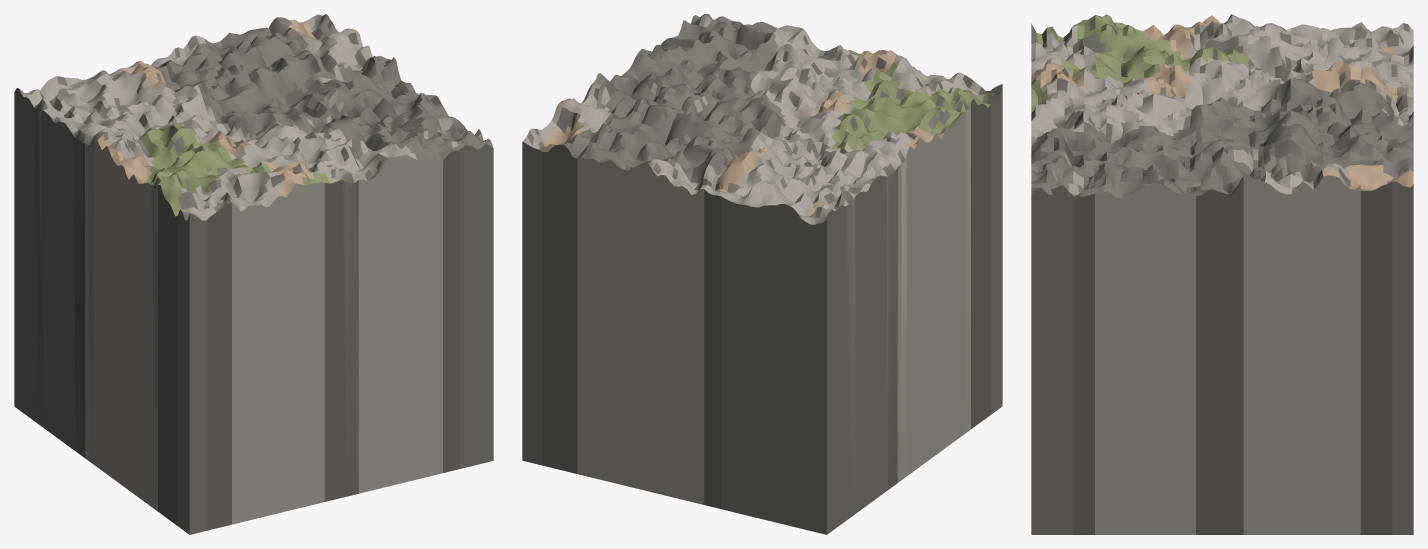
File: kit-rock-hi.glb
3 views of the same model, side by side, from view 1: azimuth 30°, elevation 25°; view 2: azimuth 150°, elevation 25°; view 3: azimuth 270°, elevation 25° (orthographic). The views are drawn at different scales.
Visible parts, largest first — view 1: rock.001; view 2: rock.001; view 3: rock.001.
Boxes of the visible parts, box(x1,y1,x2,y2) form: rock.001: box(14, 14, 493, 534); rock.001: box(522, 14, 1002, 534); rock.001: box(1031, 14, 1413, 534).
Size of the model in its own units: 1 by 1.06 by 1.
